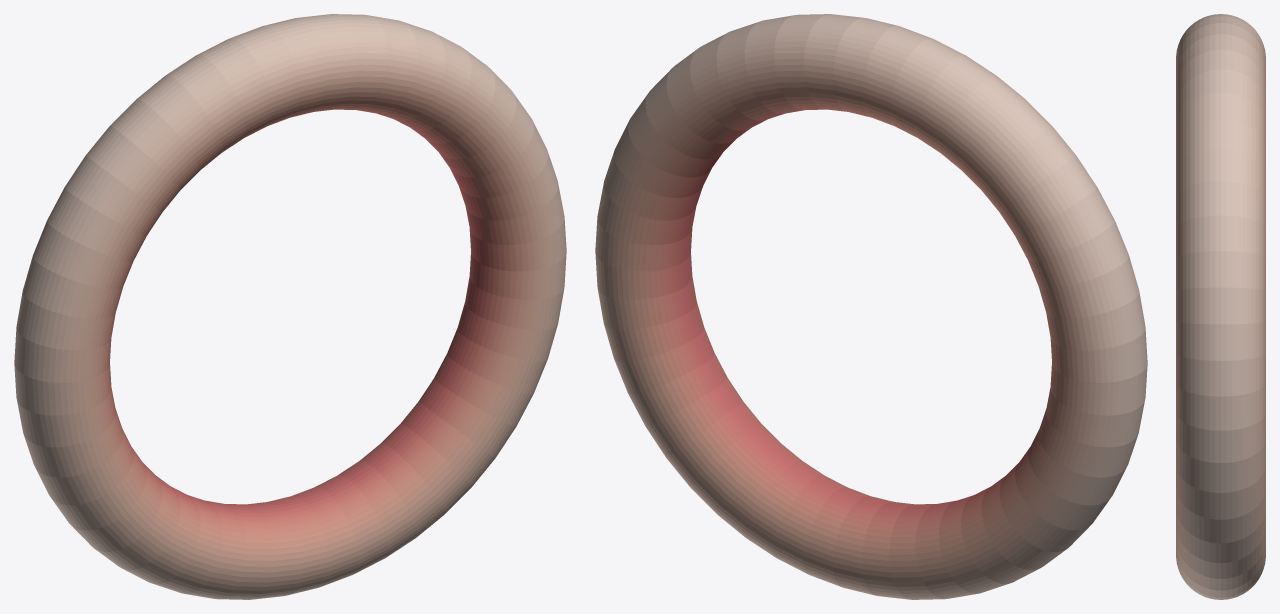
3 renders of one model, left to right at view 1: azimuth 30°, elevation 25°; view 2: azimuth 150°, elevation 25°; view 3: azimuth 270°, elevation 25°, orthographic. The views are drawn at different scales.
Parts seen in each view (by area): view 1: world; view 2: world; view 3: world.
Part boxes in pixels (left/top/right/bottom): world: left=14, top=14, right=566, bottom=599; world: left=595, top=14, right=1147, bottom=599; world: left=1176, top=14, right=1265, bottom=599.
Bounding box in the file's own units: 33.87 × 33.8 × 5.19.
